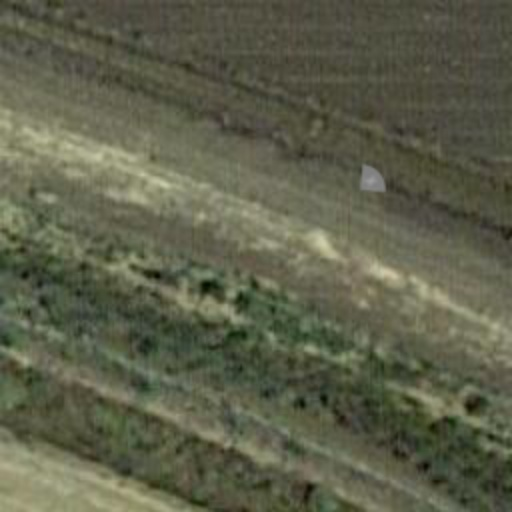quarter_circle: (348, 156, 396, 204)
